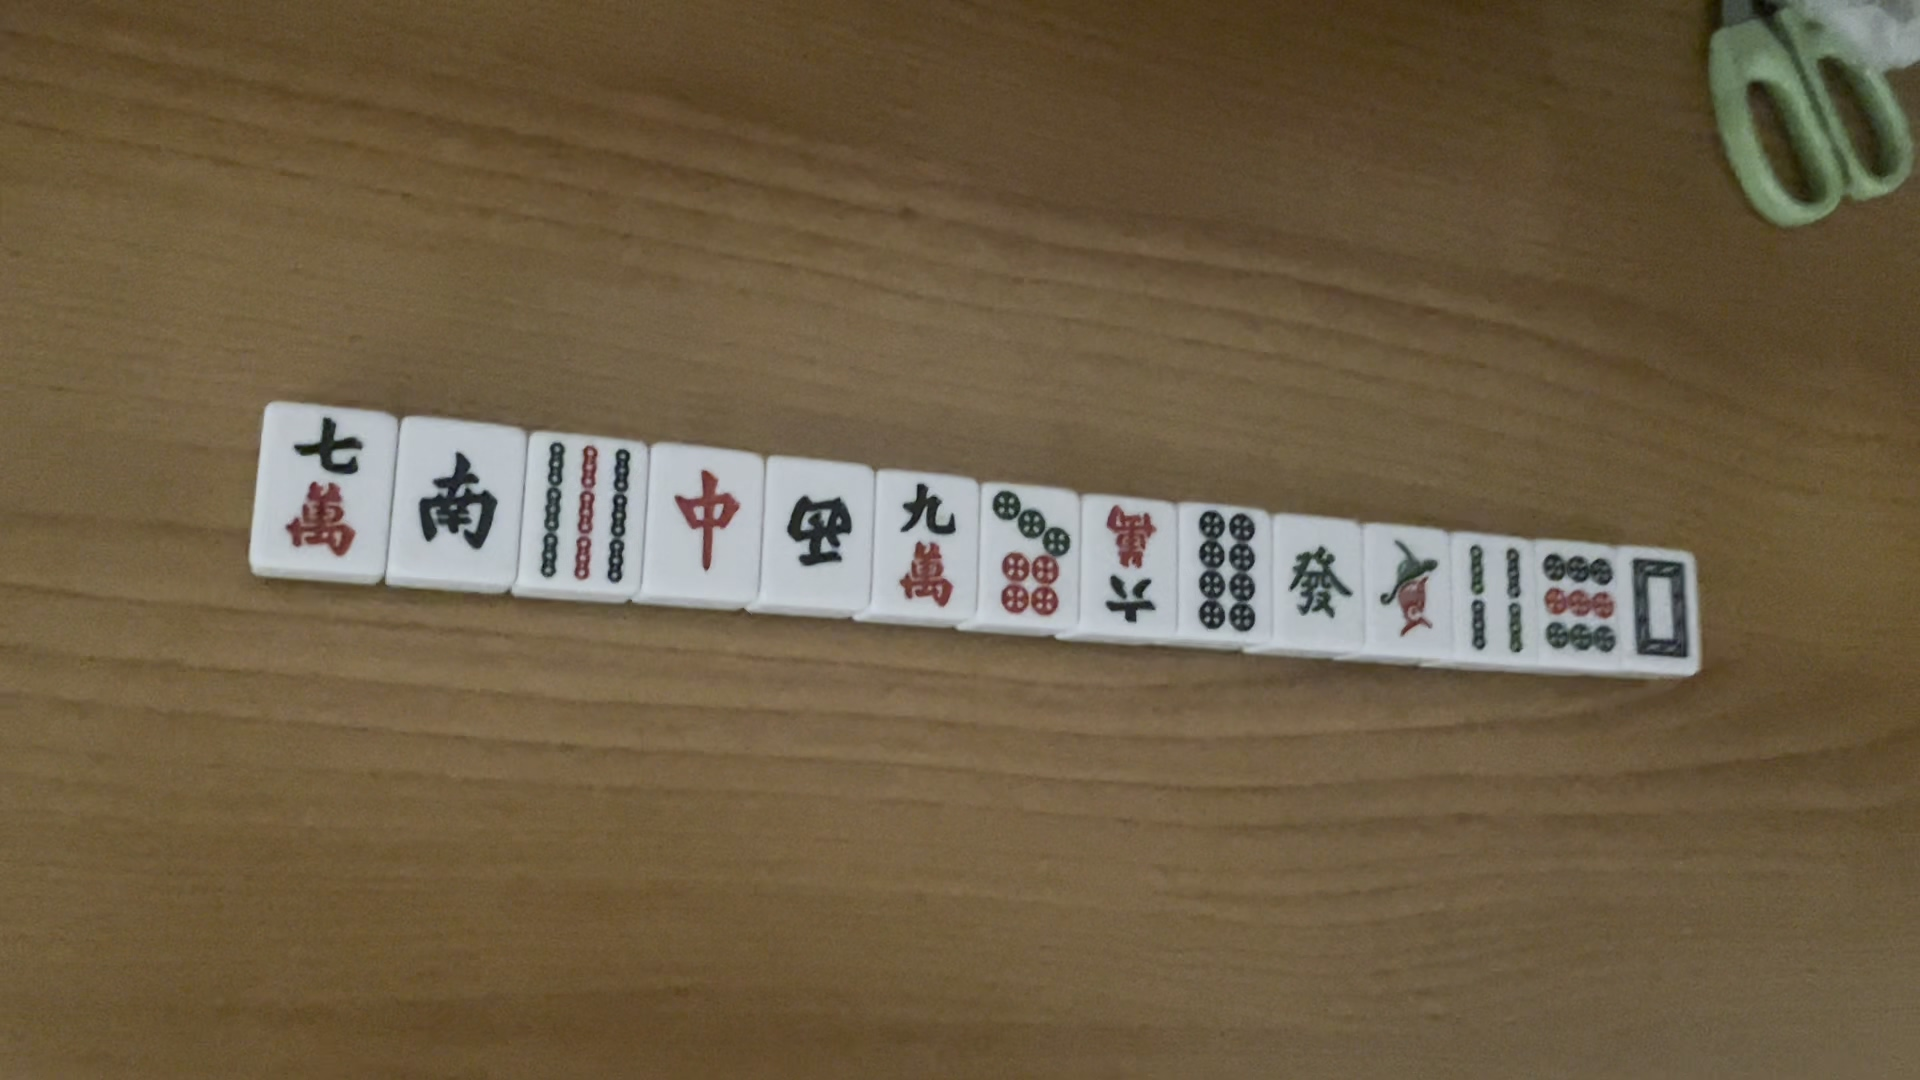b-1: (1374, 527, 1444, 641)
b-4: (1458, 530, 1531, 662)
b-9: (535, 433, 632, 596)
c-6: (1093, 498, 1170, 626)
c-7: (273, 409, 368, 562)
c-9: (891, 479, 963, 607)
d-7: (978, 488, 1077, 622)
d-8: (1185, 502, 1265, 641)
d-9: (1542, 543, 1619, 659)
honors-green: (1271, 533, 1358, 628)
honors-red: (665, 469, 738, 579)
honors-south: (404, 454, 506, 556)
honors-west: (773, 487, 862, 572)
honors-white: (1622, 550, 1700, 665)
